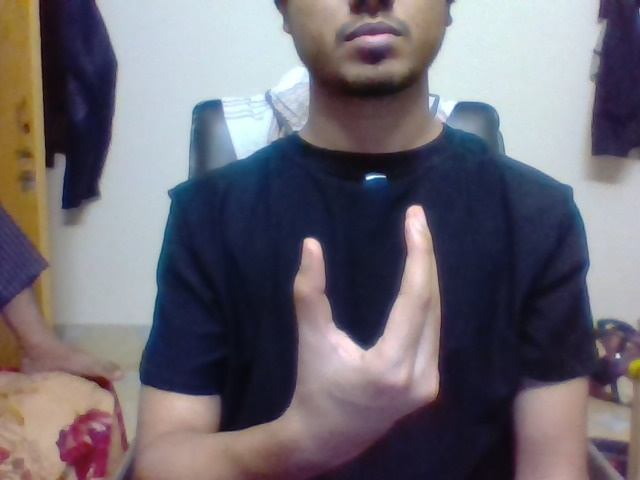U: (273, 199, 469, 393)
